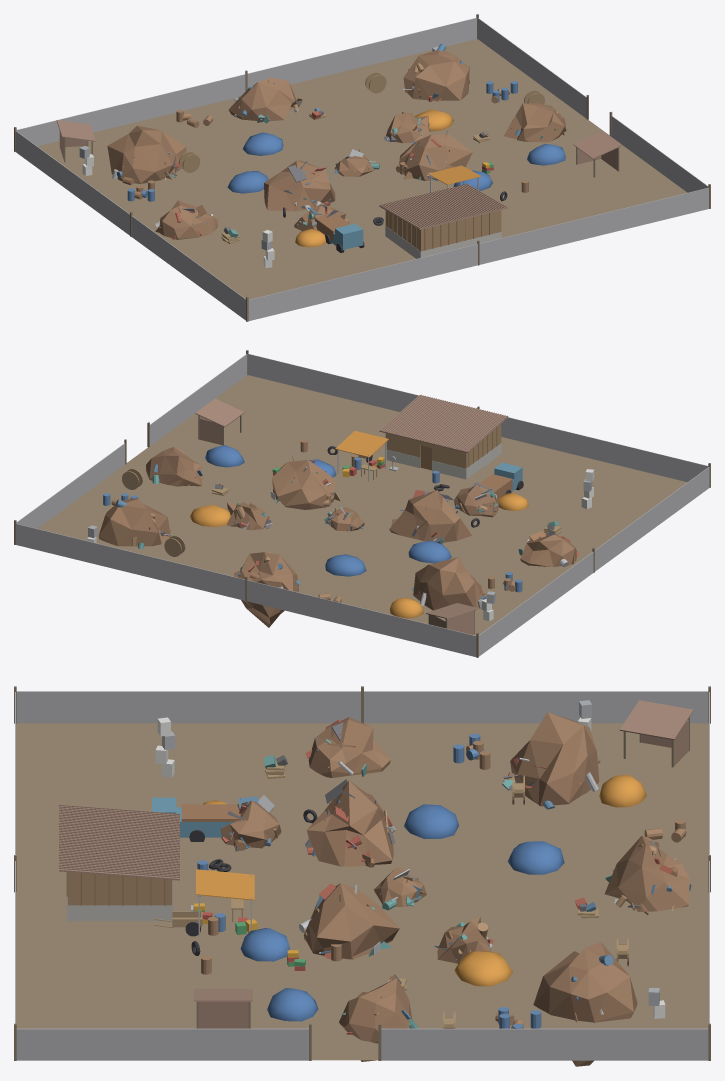
The model's file is scrapyard.glb.
3 views of the same model, one above another, from view 1: azimuth 30°, elevation 25°; view 2: azimuth 150°, elevation 25°; view 3: azimuth 270°, elevation 25° (orthographic). The views are drawn at different scales.
Visible parts, largest first — view 1: Ground, Fence_S, Fence_N, Fence_W, Heap_D, Shop_Roof, Heap_E, Shop_RoofRidges, ScrapHeap_A, Fence_E2, ScrapHeap_B, Heap_H (+18 smaller); view 2: Ground, Fence_N, Fence_S, Fence_W, Shop_Roof, ScrapHeap_A, Shop_RoofRidges, Heap_D, Heap_E, ScrapHeap_B, Fence_E2, Heap_H (+18 smaller); view 3: Ground, Fence_W, Fence_E2, Fence_E1, Shop_RoofRidges, Heap_D, Heap_E, Shop_Roof, ScrapHeap_A, ScrapHeap_B, Heap_H, Heap_F (+20 smaller).
Part boxes in pixels (x1,y1,x2,y2): Ground: [38, 39, 687, 299]; Fence_S: [248, 187, 708, 320]; Fence_N: [16, 18, 476, 146]; Fence_W: [15, 131, 245, 320]; Heap_D: [107, 125, 186, 185]; Shop_Roof: [379, 184, 508, 229]; Heap_E: [402, 44, 470, 101]; Shop_RoofRidges: [380, 183, 506, 228]; ScrapHeap_A: [264, 160, 335, 211]; Fence_E2: [477, 18, 586, 118]; ScrapHeap_B: [399, 130, 472, 181]; Heap_H: [228, 77, 302, 123]; Ground: [37, 375, 686, 635]; Fence_N: [16, 523, 476, 656]; Fence_S: [248, 354, 708, 482]; Fence_W: [479, 467, 709, 656]; Shop_Roof: [379, 395, 508, 452]; ScrapHeap_A: [389, 490, 471, 543]; Shop_RoofRidges: [380, 394, 507, 451]; Heap_D: [412, 557, 486, 610]; Heap_E: [98, 498, 172, 549]; ScrapHeap_B: [270, 455, 340, 509]; Fence_E2: [16, 443, 125, 528]; Heap_H: [233, 552, 300, 627]; Ground: [16, 723, 708, 1060]; Fence_W: [16, 691, 708, 723]; Fence_E2: [381, 1028, 708, 1060]; Fence_E1: [16, 1028, 308, 1060]; Shop_RoofRidges: [59, 804, 179, 877]; Heap_D: [502, 712, 600, 809]; Heap_E: [533, 942, 637, 1066]; Shop_Roof: [59, 806, 179, 880]; ScrapHeap_A: [305, 779, 395, 867]; ScrapHeap_B: [299, 883, 399, 959]; Heap_H: [604, 835, 691, 914]; Heap_F: [305, 717, 390, 777].
Size of the model in its own units: 46.16 by 7.81 by 40.16.
